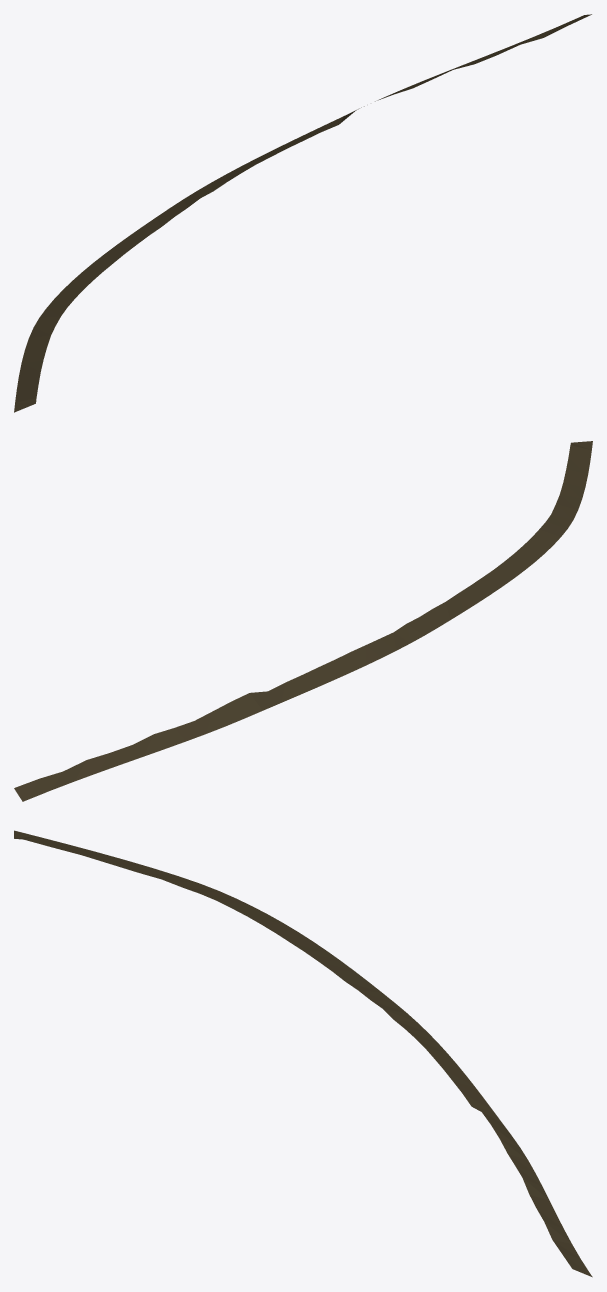
Rendered from 0821_left_gravel_bank.dae.
3 views of the same model, one above another, from view 1: azimuth 30°, elevation 25°; view 2: azimuth 210°, elevation 25°; view 3: azimuth 270°, elevation 25° (orthographic). The views are drawn at different scales.
Parts seen in each view (by area): view 1: Node; view 2: Node; view 3: Node.
Boxes of the visible parts, <box> form: Node: <box>14,14,591,412</box>; Node: <box>14,441,592,801</box>; Node: <box>14,830,592,1277</box>.
Size of the model in its own units: 35.25 by 18.41 by 1.06.
